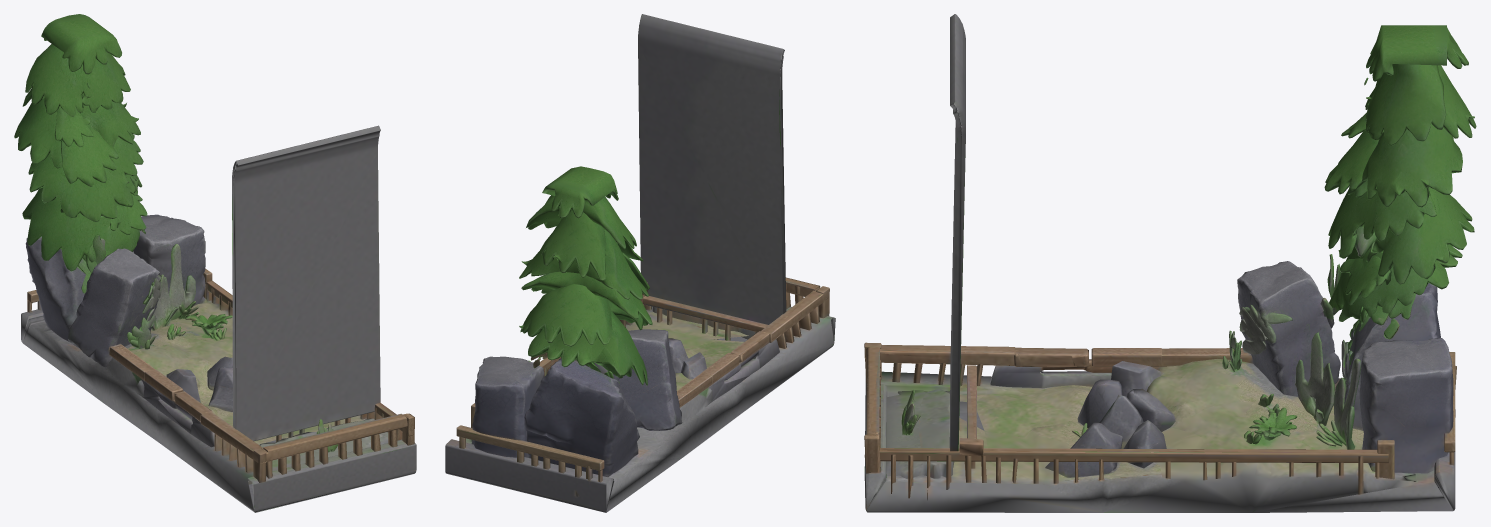
The model's file is Stylized_Cliff_Rock.glb.
3 views of the same model, side by side, from view 1: azimuth 30°, elevation 25°; view 2: azimuth 150°, elevation 25°; view 3: azimuth 270°, elevation 25° (orthographic). The views are drawn at different scales.
Bounding box in the file's own units: 0.416 × 0.7085 × 0.9502.
1 material, 1 textured.
